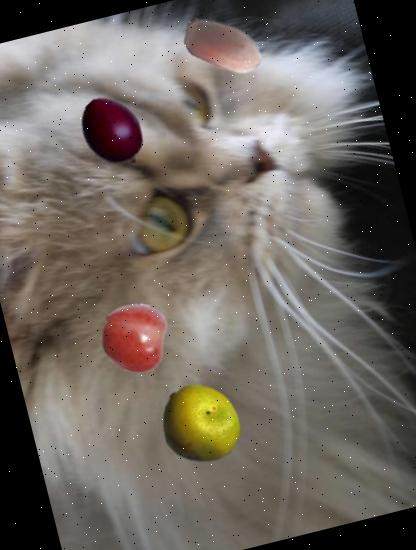Cherry: (92, 295, 178, 380)
Hazelnut: (174, 0, 275, 98)
Pomelo: (150, 374, 251, 476)
Tamarillo: (67, 87, 160, 178)
